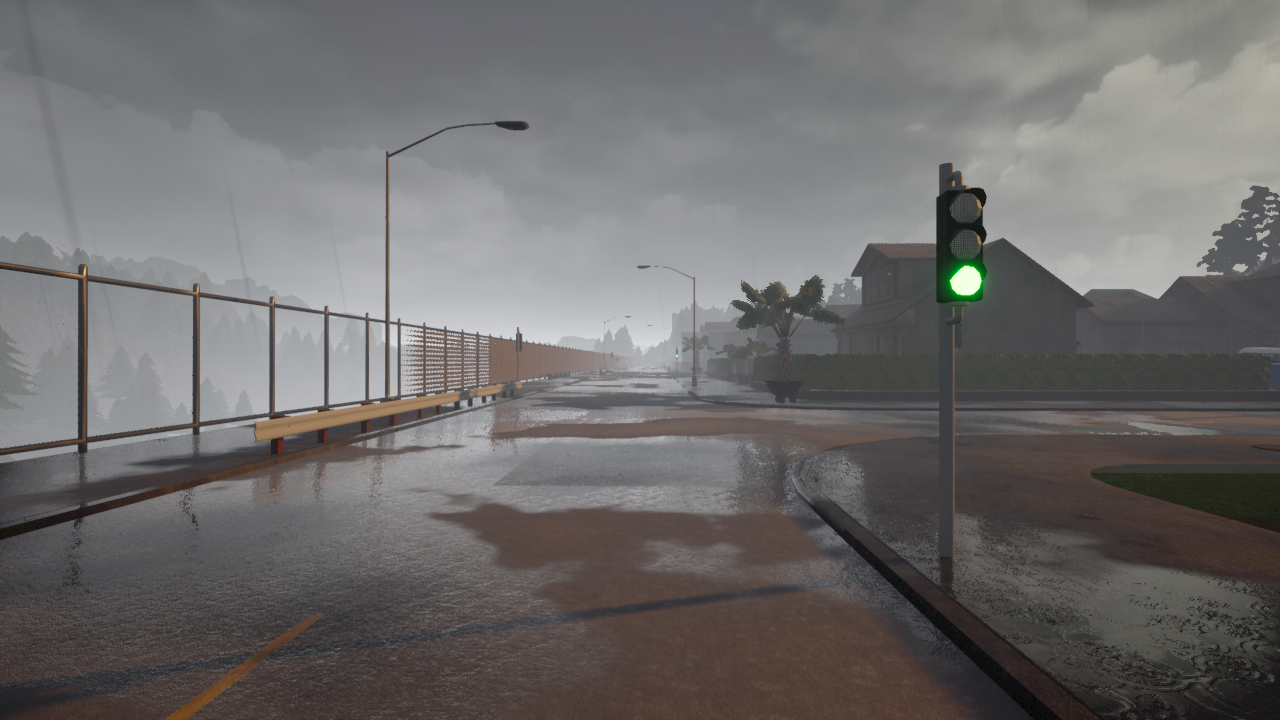green: (937, 184, 990, 300)
